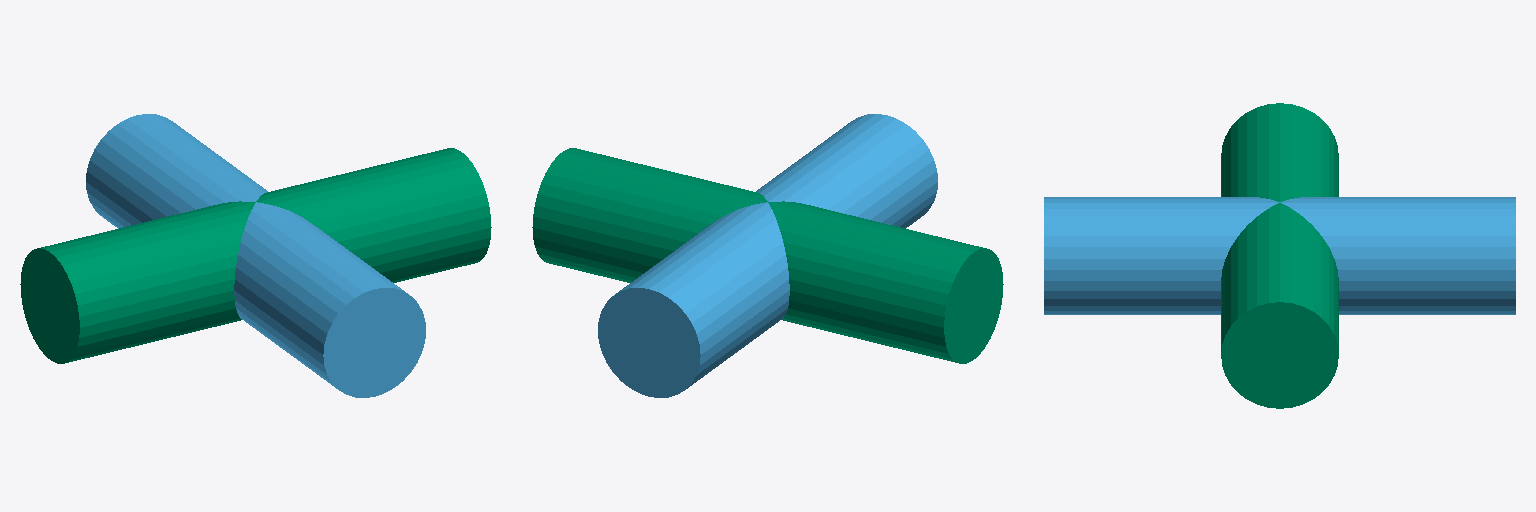
The robot description file, URDF, robot "manipulator":
<?xml version="1.0" ?>
<robot name="manipulator">
  <link name="world"/>

  <link name="manipulator/link_0">
    <visual>
      <origin rpy="0 0 0" xyz="0 0 0"/>
      <geometry>
        <cylinder radius="0.025" length="0.2"/>
      </geometry>
    </visual>
    <collision>
        <origin rpy="0 0 0" xyz="0 0 0"/>
        <geometry>
        <cylinder radius="0.025" length="0.2"/>
      </geometry>
    </collision>
    <inertial>
      <mass value="0.1"/>
      <origin rpy="0 0 0" xyz="0 0 0"/>
      <inertia ixx="1e-3" ixy="0" ixz="0" iyy="1e-3" iyz="0" izz="1e-3"/>
    </inertial>
  </link>

   <joint name="manipulator/joint_fixed" type="fixed">
    <parent link="world"/>
    <child link="manipulator/link_0"/>
    <origin rpy="1.57079632679 0 0" xyz="0 0 0.25"/>
  </joint>


  <link name="manipulator/link_1">
    <visual>
      <origin rpy="0 0 0" xyz="0 0 0"/>
      <geometry>
        <cylinder radius="0.025" length="0.2"/>
      </geometry>
    </visual>
    <collision>
        <origin rpy="0 0 0" xyz="0 0 0"/>
        <geometry>
        <cylinder radius="0.025" length="0.2"/>
      </geometry>
    </collision>
    <inertial>
      <mass value="0.1"/>
      <origin rpy="0 0 0" xyz="0.00372 0 0.001"/>
      <inertia ixx="0.01109" ixy="0" ixz="0" iyy="0.00244" iyz="0" izz="0.00355"/>
    </inertial>
  </link>

  <joint name="manipulator/joint_0" type="revolute">
    <parent link="manipulator/link_0"/>
    <child link="manipulator/link_1"/>
    <origin rpy="0 1.57079632679 0" xyz="0. 0. 0."/>
    <axis xyz="0 0 1"/>
    <limit effort="100" lower="-0.78539816339" upper="0.78539816339" velocity="1.0"/>
  </joint>

</robot>

--- What the picture shows (computed from the rendered views, not written in the file) ---
3 views of the same robot in one strip: view 1: azimuth 30°, elevation 25°; view 2: azimuth 150°, elevation 25°; view 3: azimuth 270°, elevation 25° (orthographic).
Robot: manipulator — 3 links, 2 joints (1 revolute, 1 fixed); root link world; default pose: every joint at zero.
Links seen in each view (by area): view 1: manipulator/link_1, manipulator/link_0; view 2: manipulator/link_1, manipulator/link_0; view 3: manipulator/link_0, manipulator/link_1.
Boxes of the visible links, x1=… form: manipulator/link_1: x1=20, y1=148, x2=491, y2=363; manipulator/link_0: x1=86, y1=114, x2=425, y2=397; manipulator/link_1: x1=532, y1=148, x2=1003, y2=363; manipulator/link_0: x1=598, y1=114, x2=937, y2=397; manipulator/link_0: x1=1044, y1=197, x2=1515, y2=314; manipulator/link_1: x1=1221, y1=103, x2=1338, y2=408.
Bounding box of the posed robot: 0.2 × 0.2 × 0.05 m (x, y, z).
Geometry: primitives only (box / cylinder / sphere), no mesh files.
